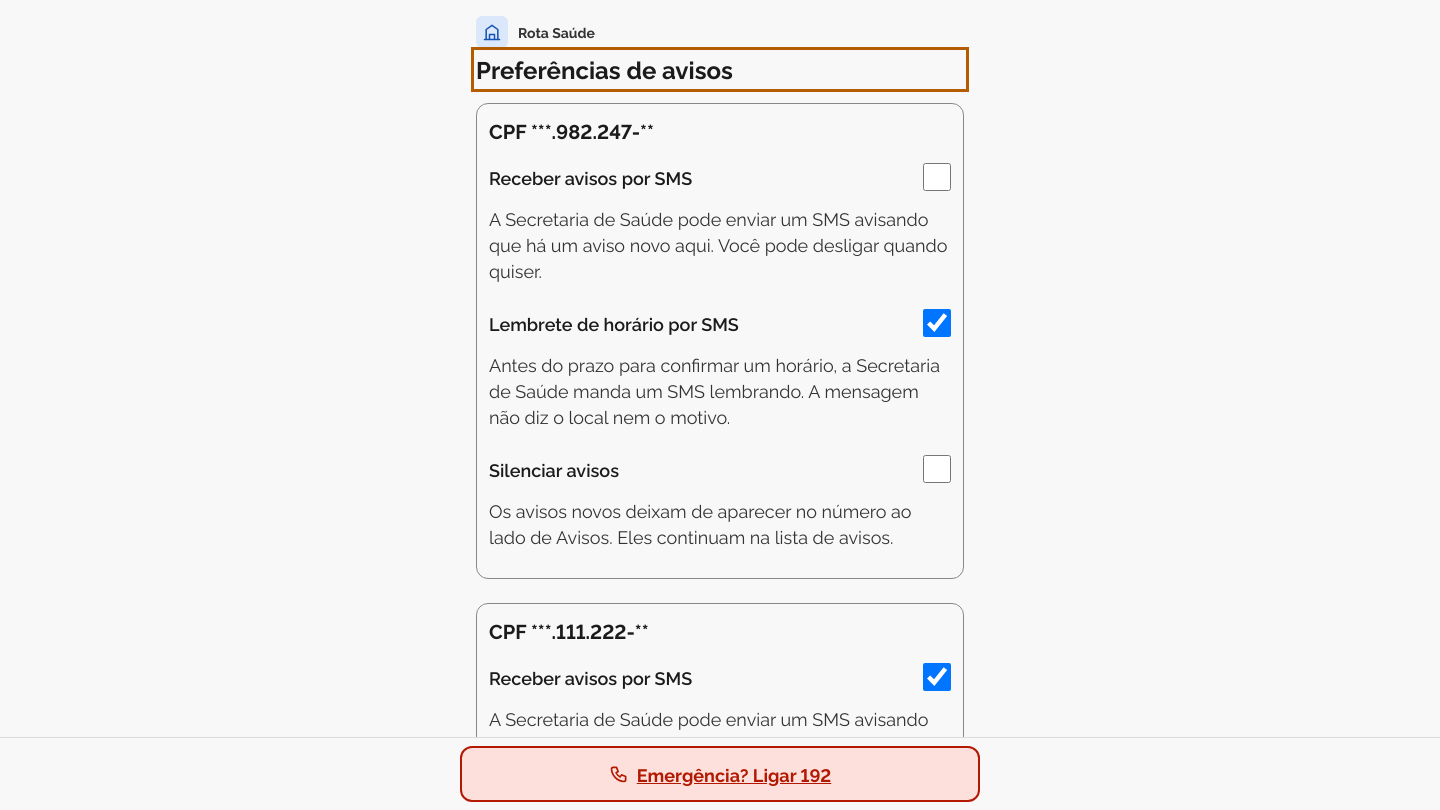
Test: PreferencesStep › ligar o SMS manda só sms_opt_in e mostra o estado salvo
The width and height of the screenshot is (1440, 810).
Click the 1st switch labelled "Receber avisos por SMS".
click(937, 177)  # box [923, 163, 951, 191]
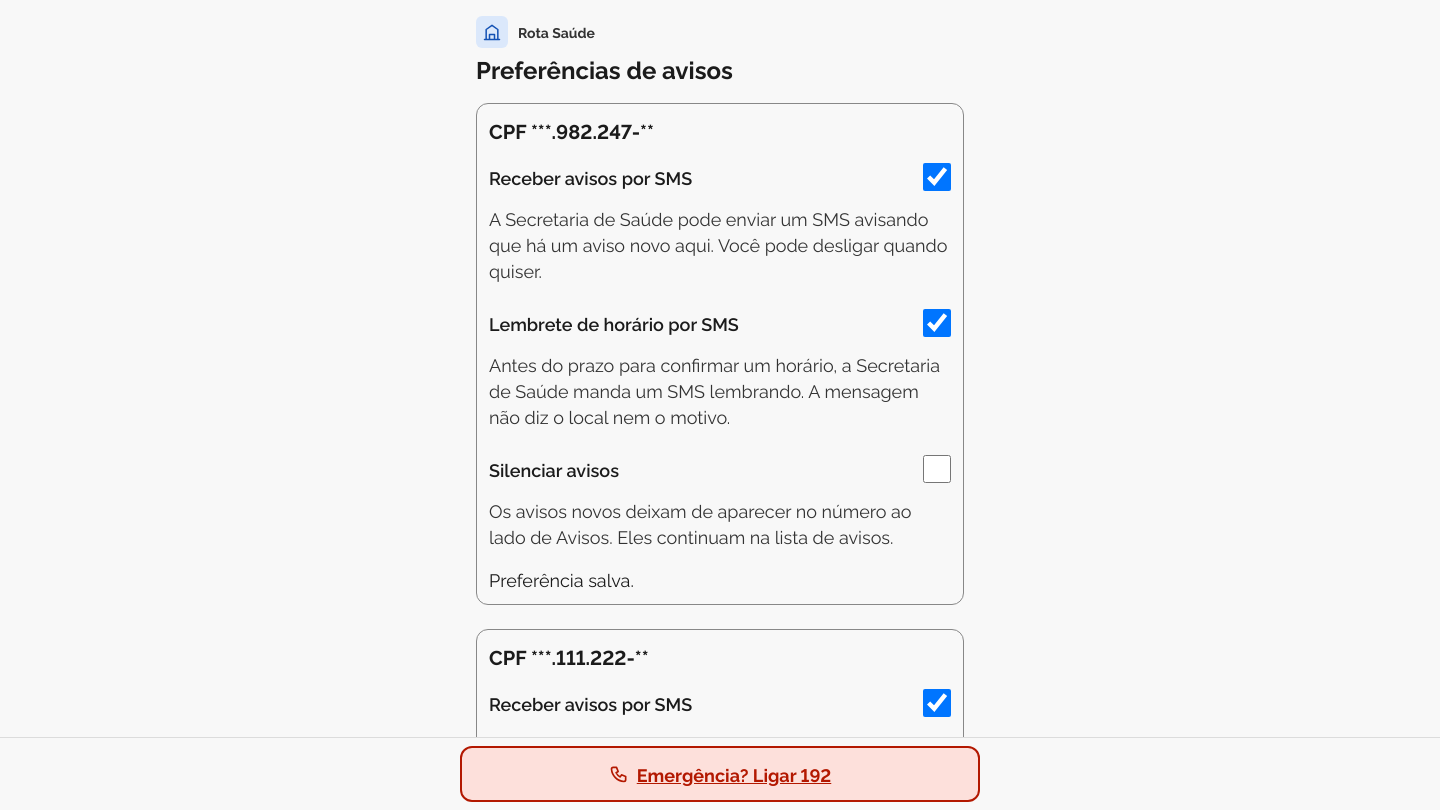
Expected: the switch labelled "Silenciar avisos" is not checked, [923, 455, 951, 483]
Result: the 1st switch labelled "Receber avisos por SMS" is checked at [923, 163, 951, 191]
Result: the text "Preferência salva." is shown at [489, 566, 634, 590]
